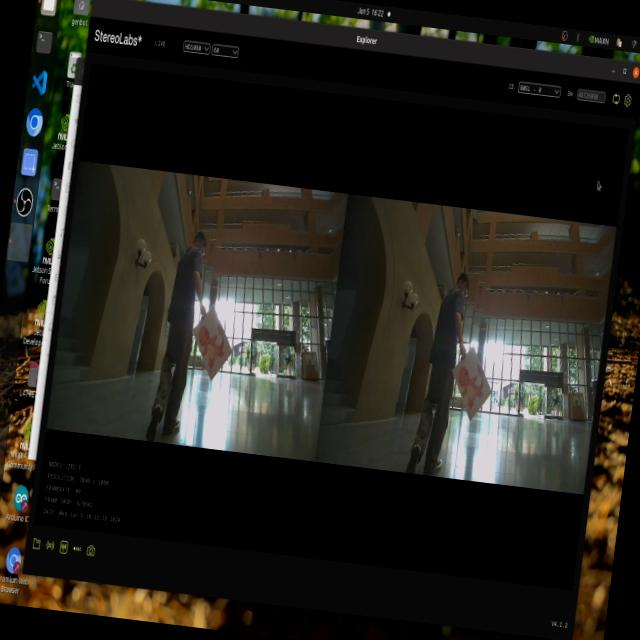red: (188, 315, 236, 377), (449, 363, 492, 417)
